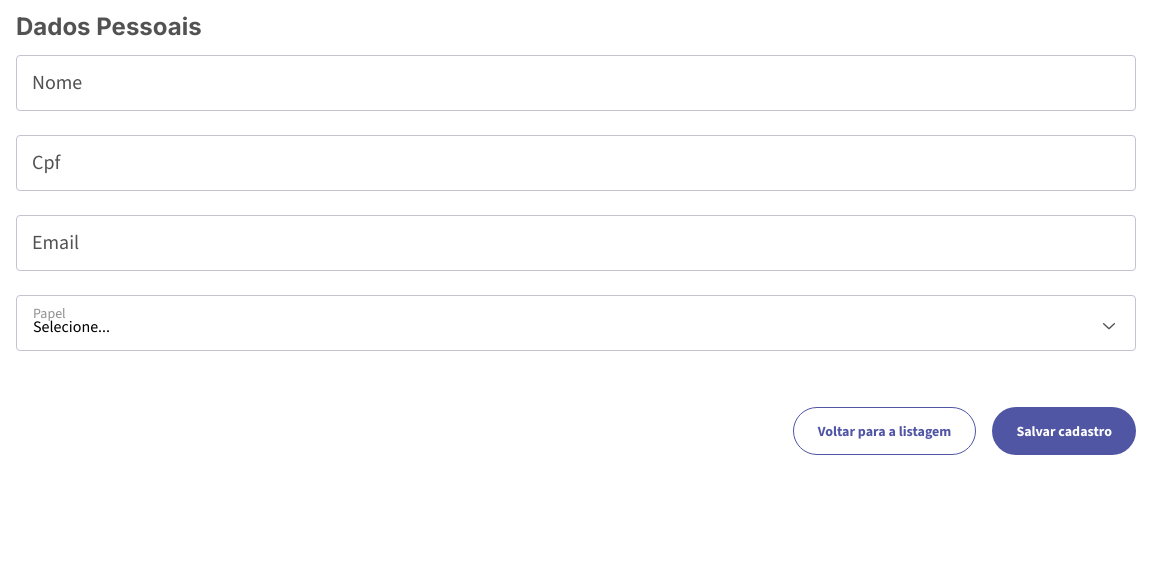
it: EmployeeFormPresentation › should render inputs Name with specific error
Type "Paulo" into the field with test id "name" at (576, 83), box [16,55,1136,111]
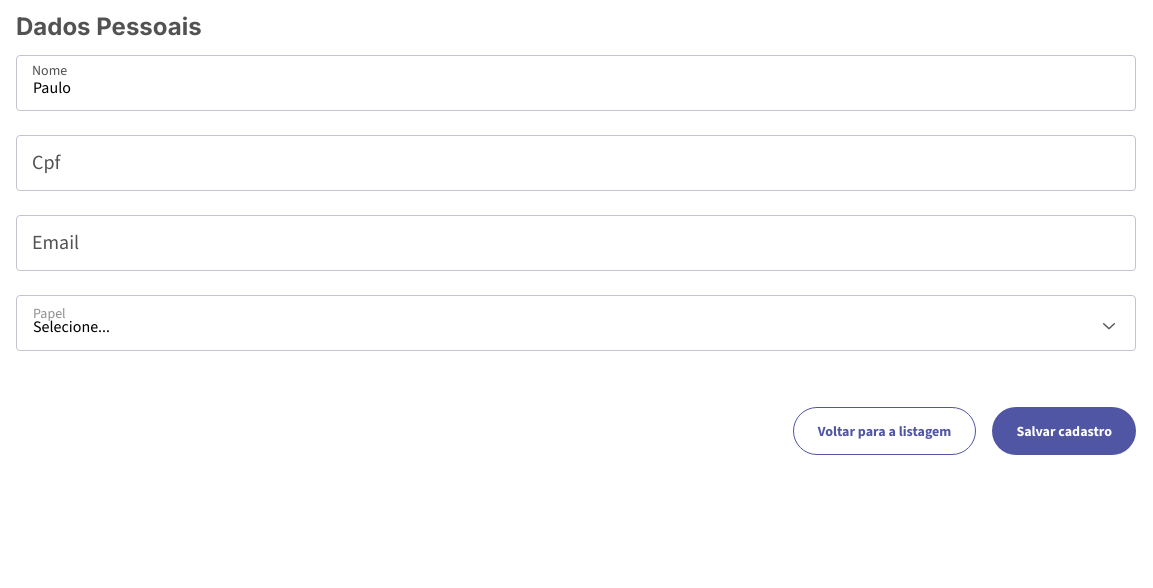
Click the button "Salvar cadastro" at (1064, 431), box [992,407,1136,455]
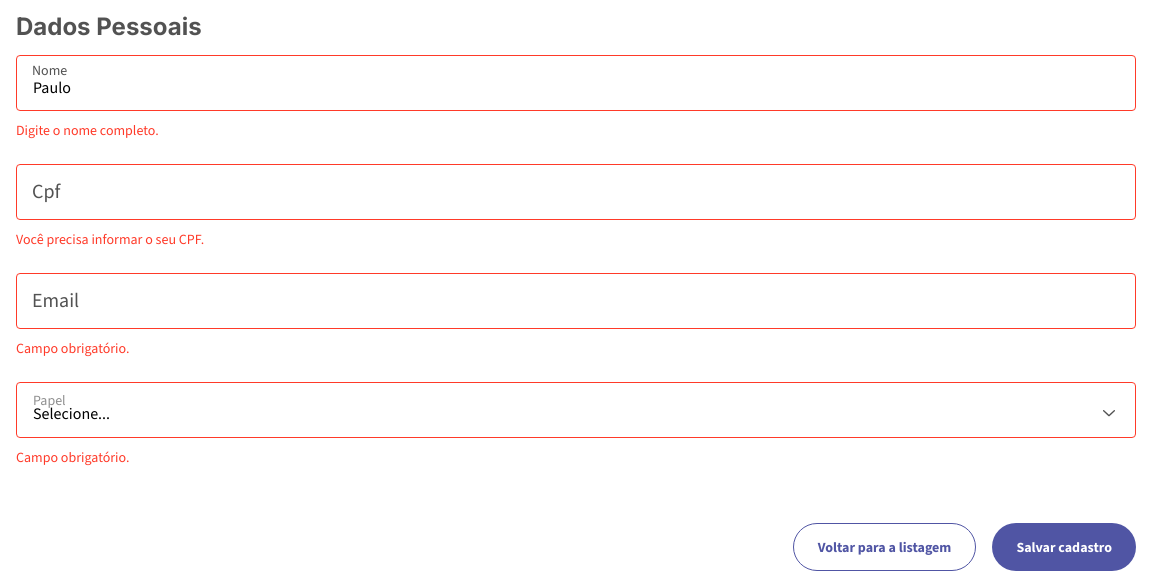
Expected: the message "Digite o nome completo." is shown, [16,121,159,140]
